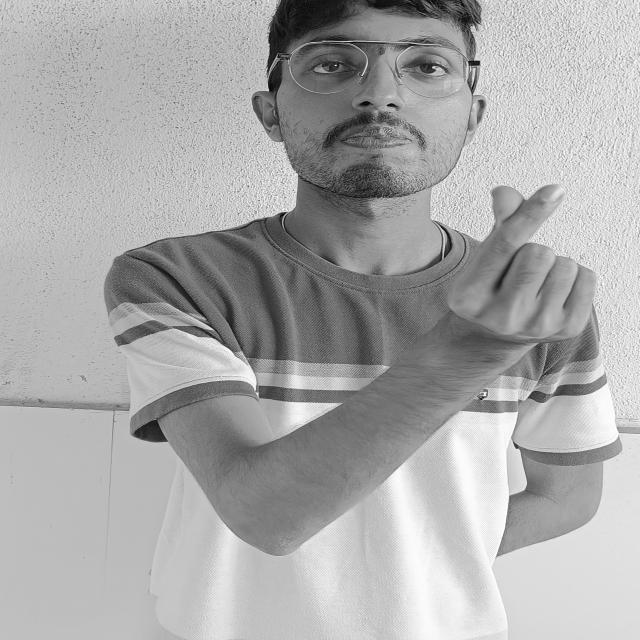Grattitude: (434, 182, 612, 380)
